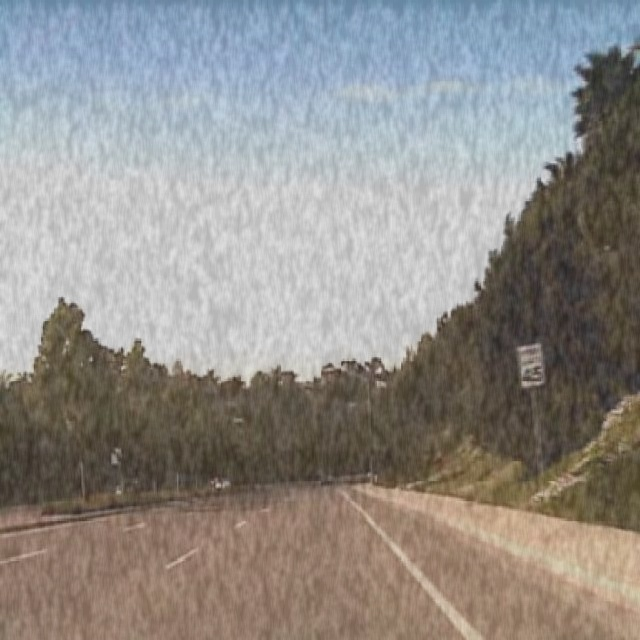speedLimit45: (517, 342, 545, 388)
